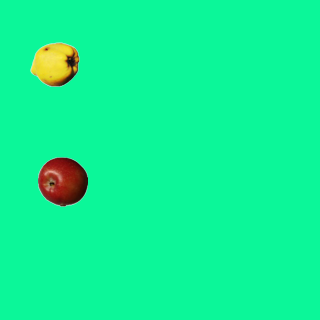Apple Braeburn: (37, 156, 87, 206)
Quince: (29, 39, 79, 89)
